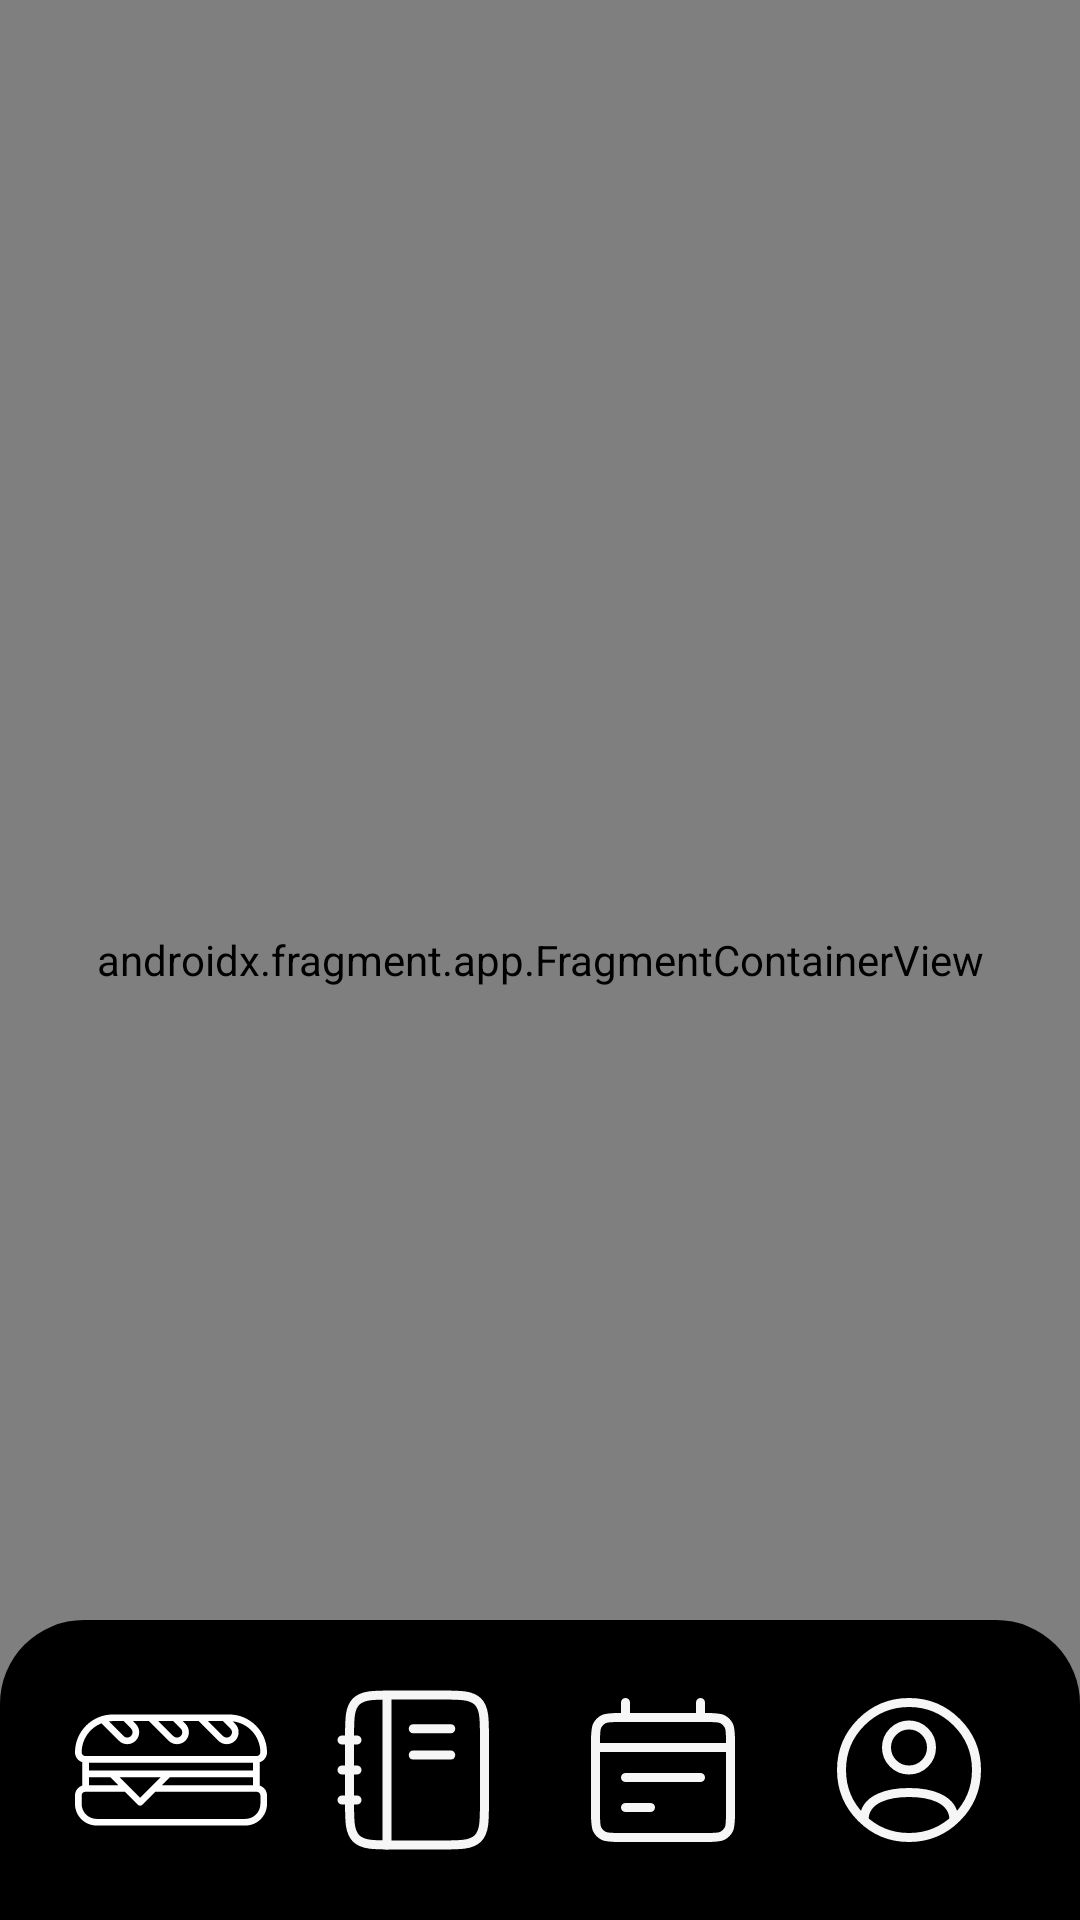

Icon click points for this 1080*1920 phone screenshot, format (x,y):
bocata: (171,1770)
profile: (909,1770)
